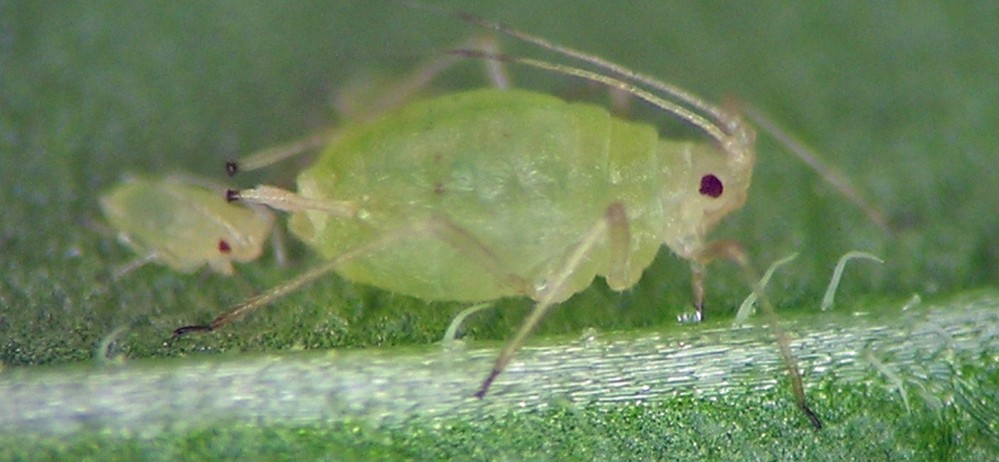Pulgon: (249, 18, 851, 424), (81, 143, 305, 309)
